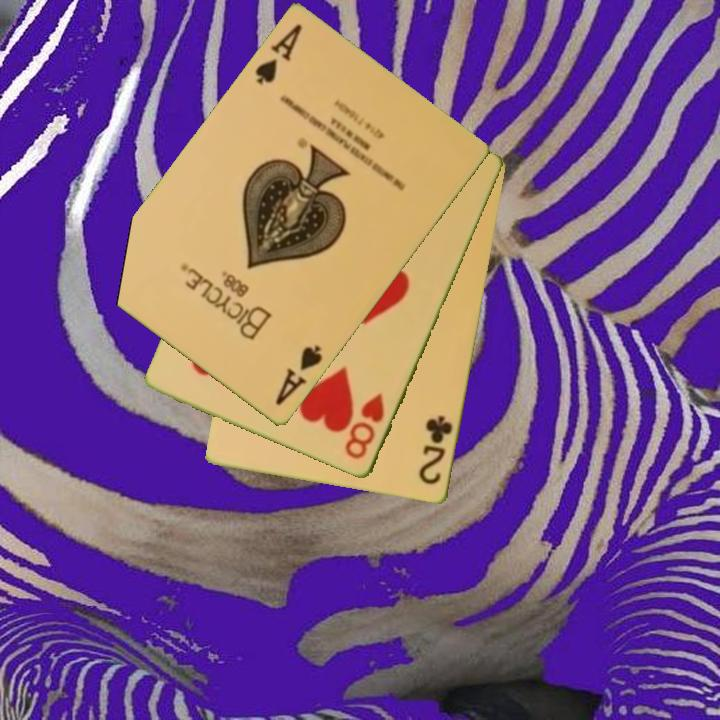2c: (416, 412, 456, 488)
8h: (341, 390, 388, 463)
As: (251, 21, 306, 89), (271, 342, 326, 409)
